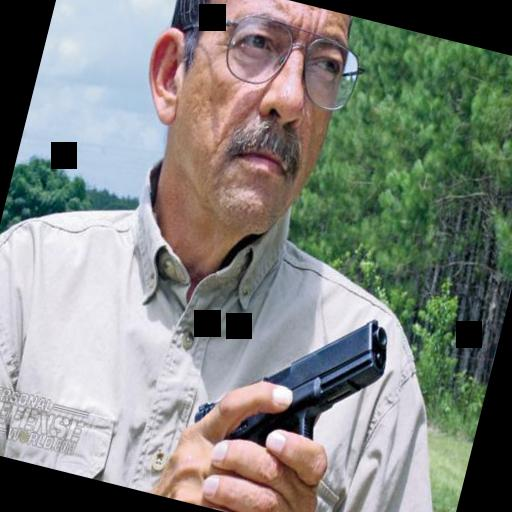Handgun: (211, 286, 394, 484)
